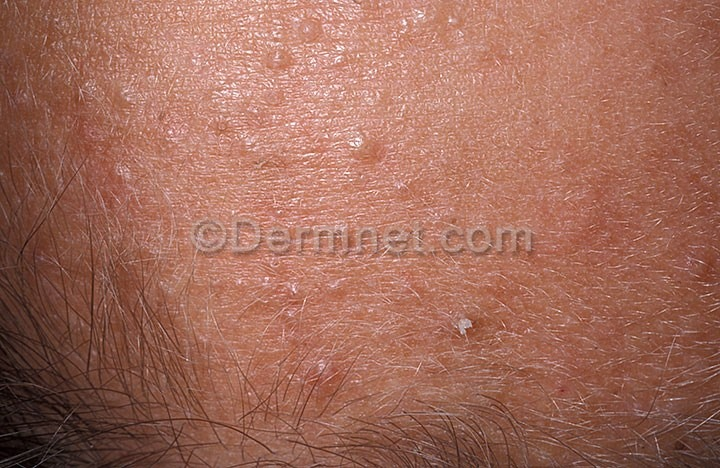Acne: (57, 38, 580, 390)
